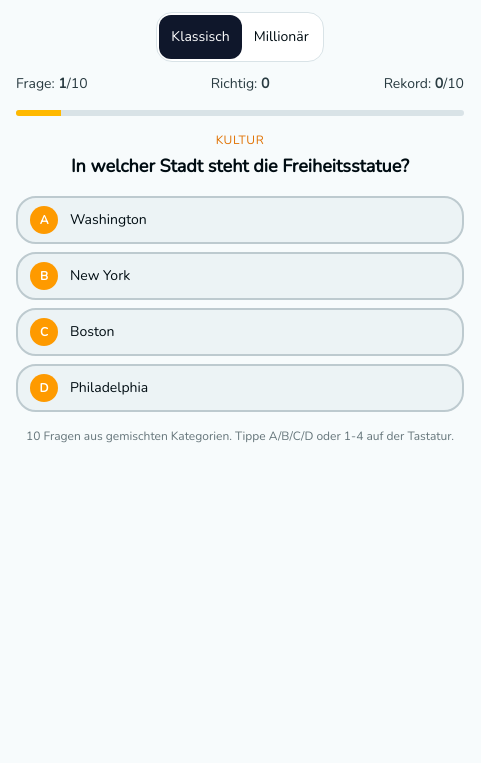
QuizGame › switches back from millionaire to classic via the toggle
The width and height of the screenshot is (481, 763).
Click the button "Millionär". click: (281, 37)
box: [242,15,321,59]
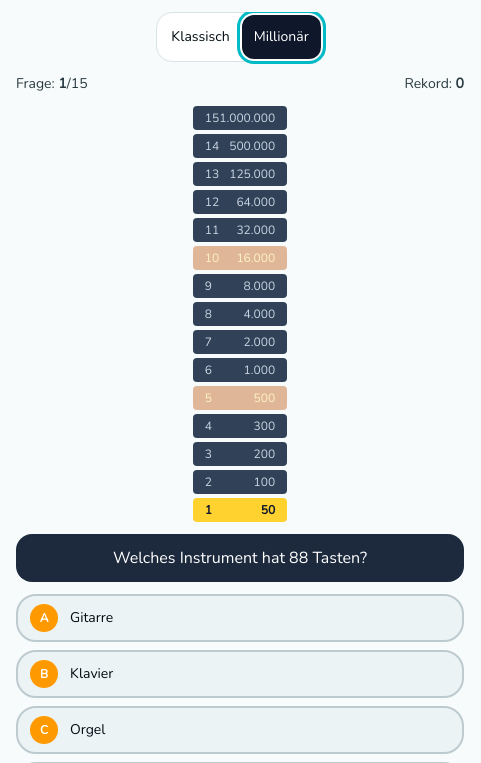
Click the button "Klassisch". click: (200, 37)
box: [159,15,242,59]
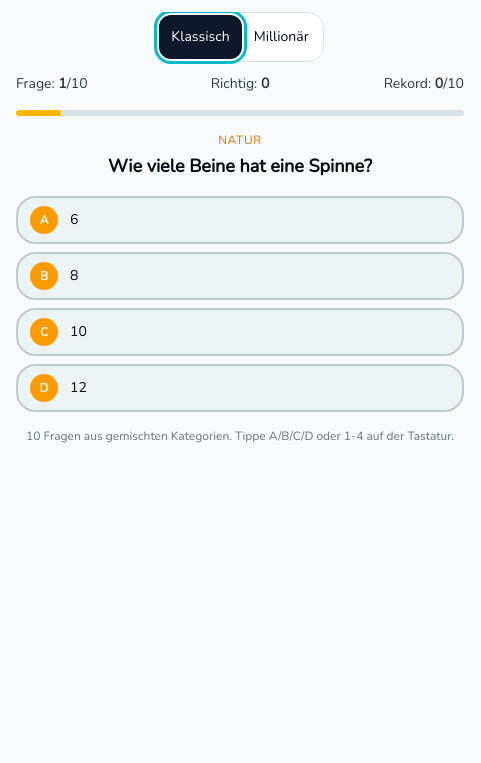
Now the element "Gewinnpyramide" is gone
